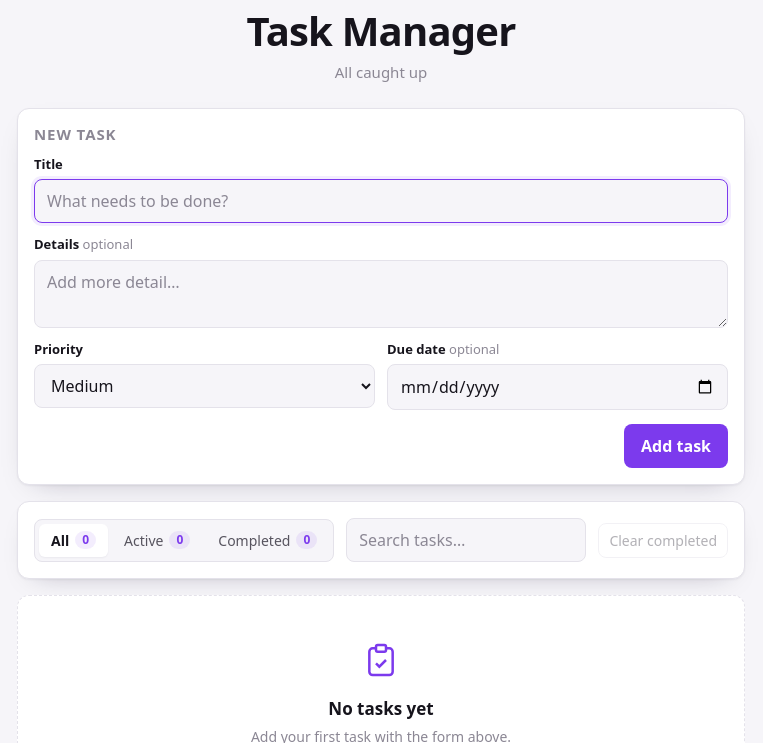
App (integration) › validates an empty add
The width and height of the screenshot is (763, 743).
Expected: the text "No tasks yet" is shown, [328, 697, 434, 720]
What coordinates should you click on to do the following:
click the button "Add task"
I would click on:
 (676, 446)
Its box is [624, 424, 728, 468].
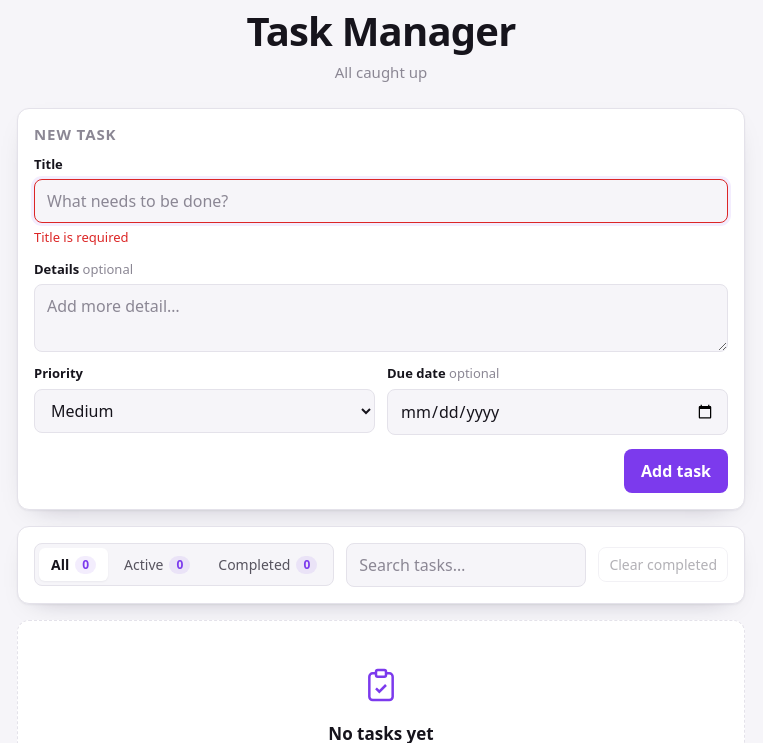
Now the message reads "Title is required", box [34, 228, 129, 246]
